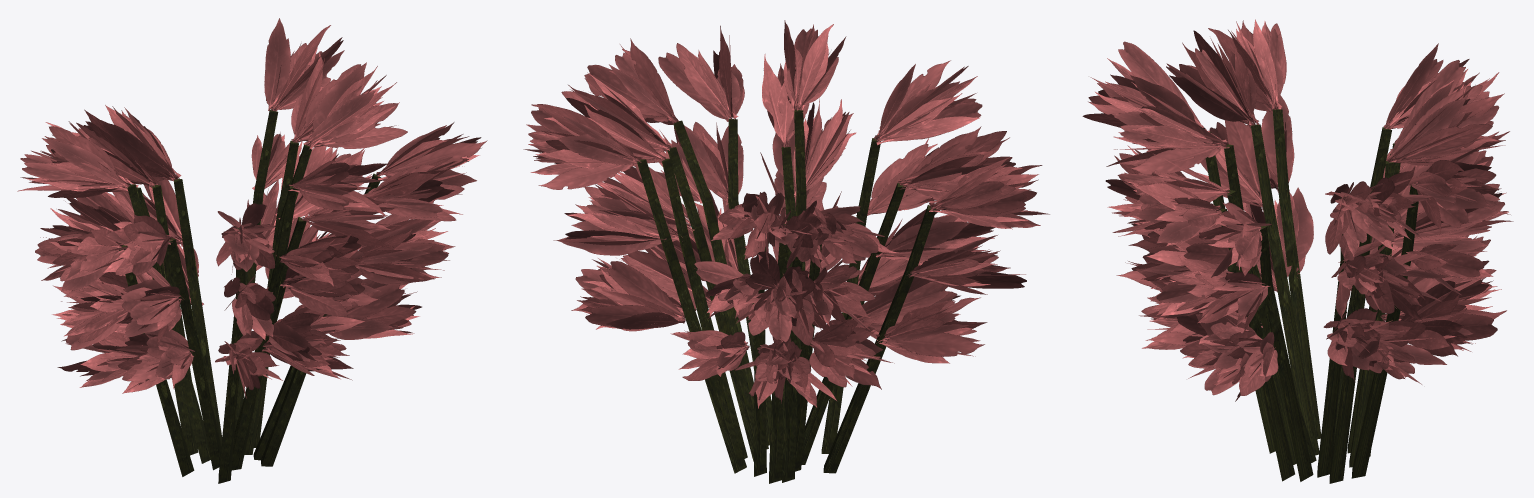
Rendered from understory_ginger_v02_LOD1.fbx.
3 renders of one model, left to right at view 1: azimuth 30°, elevation 25°; view 2: azimuth 150°, elevation 25°; view 3: azimuth 270°, elevation 25°, orthographic. The views are drawn at different scales.
Visible parts, largest first — view 1: understory_ginger_v02_LOD1; view 2: understory_ginger_v02_LOD1; view 3: understory_ginger_v02_LOD1.
Boxes of the visible parts, x1,y1,x2,y2 form: understory_ginger_v02_LOD1: (17,18,487,483); understory_ginger_v02_LOD1: (523,20,1049,483); understory_ginger_v02_LOD1: (1082,19,1513,483).
Bounding box in the file's own units: 156 × 122 × 121.
Materials: 2 (2 with a texture image).
